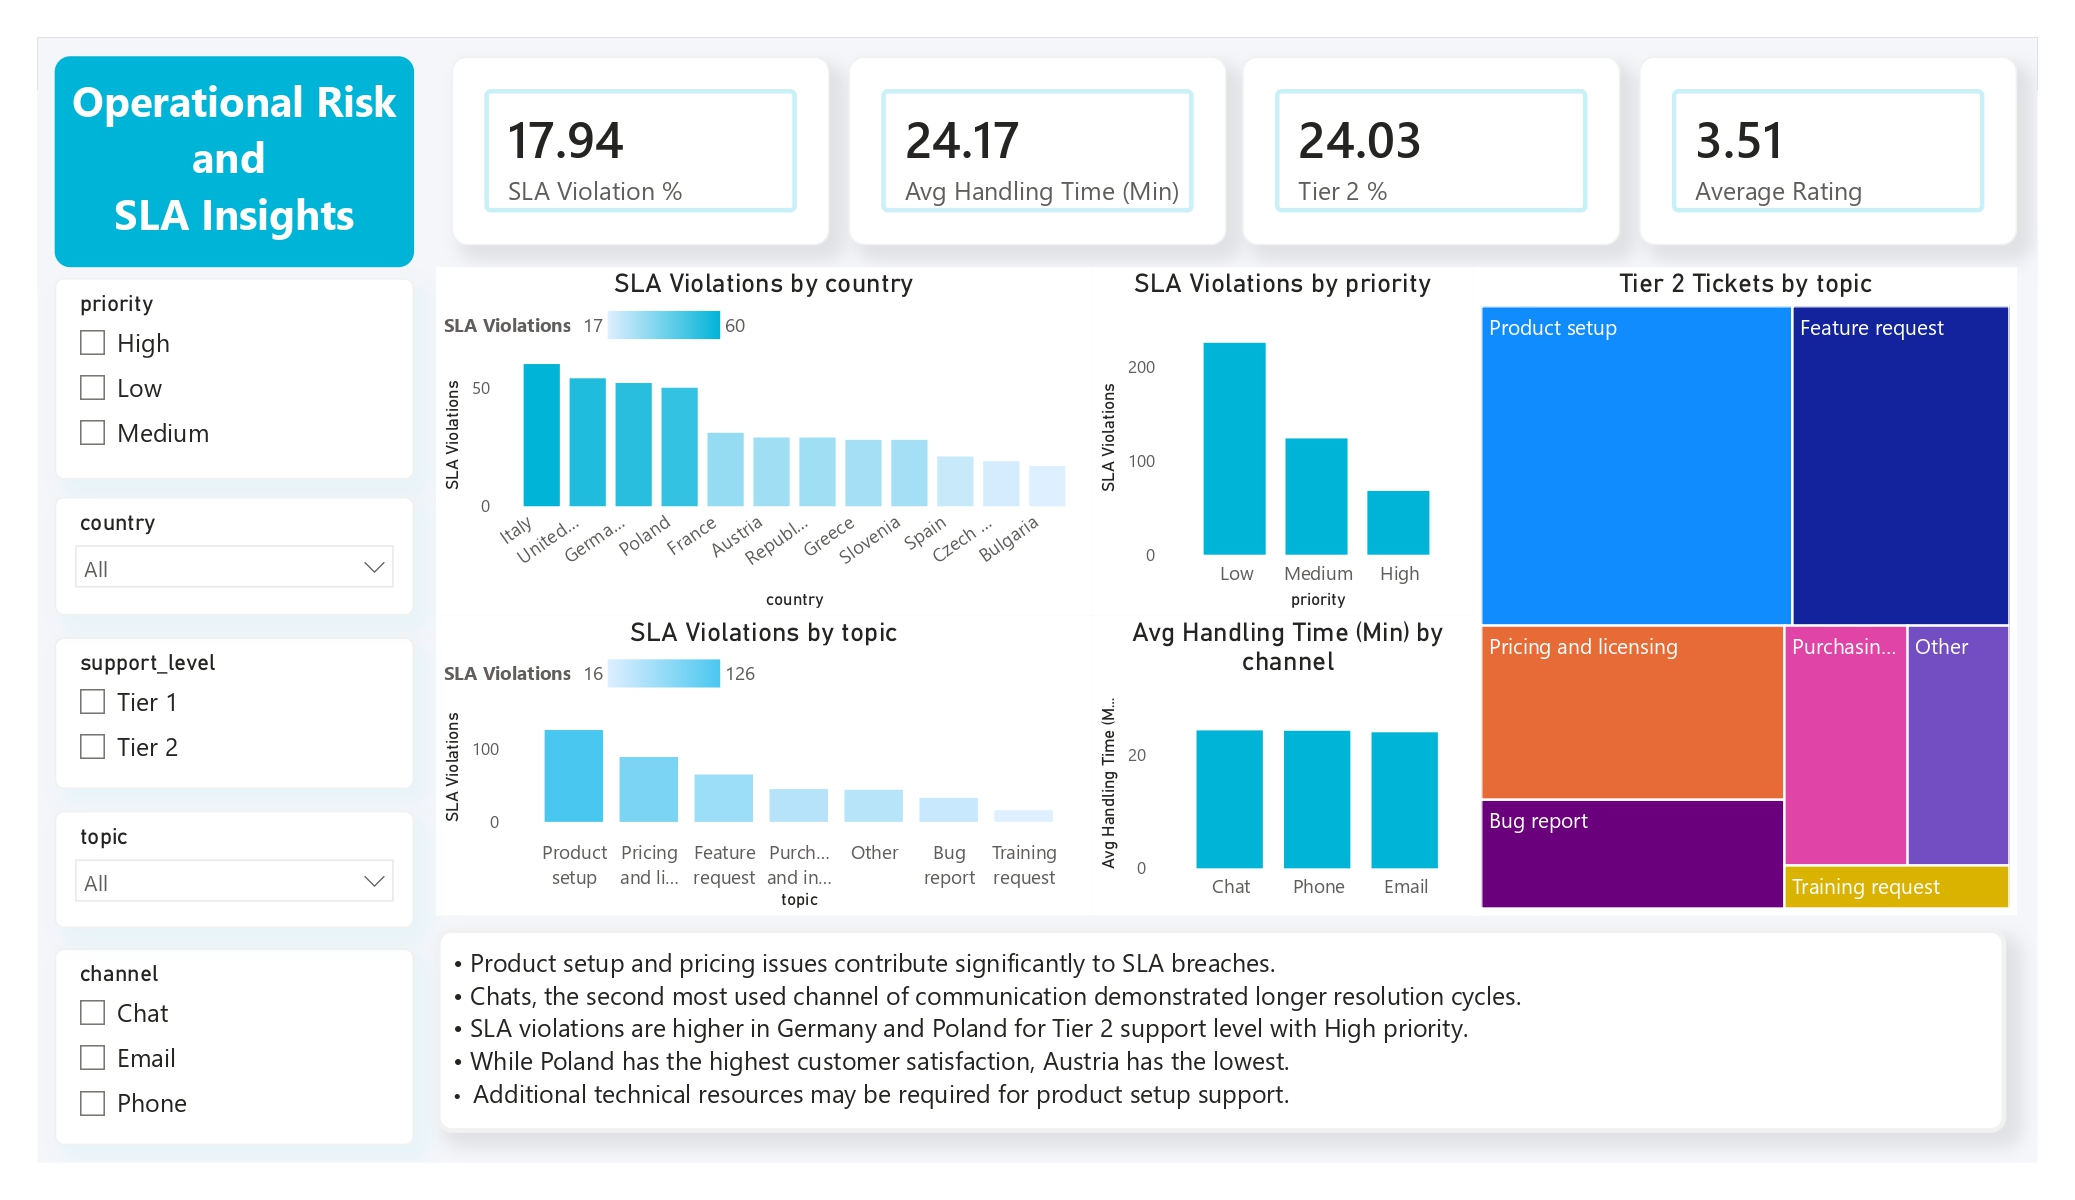

This screenshot's page, from the dashboard's own definition file:
{"tool":"powerbi","page":{"name":"SLA & Operations Analysis","canvas":[1280,720],"ordinal":2},"visuals":[{"type":"cardVisual","fields":{"Data":["Final cleaned Sheet.SLA Violation %"]},"box":[265.1,12,242.2,120.5],"z":0},{"type":"cardVisual","fields":{"Data":["Final cleaned Sheet.Avg Handling Time (Min)"]},"box":[519.3,12,242.2,121],"z":1000},{"type":"cardVisual","fields":{"Data":["Final cleaned Sheet.Tier 2 %"]},"box":[771.1,12,242.2,121],"z":2000},{"type":"cardVisual","fields":{"Data":["Final cleaned Sheet.Average Rating"]},"box":[1025.3,12,242.2,121],"z":3000},{"type":"clusteredColumnChart","fields":{"Category":["Final cleaned Sheet.topic"],"Y":["Final cleaned Sheet.SLA Violations"]},"box":[255.4,369.6,419.7,192.3],"z":4000},{"type":"clusteredColumnChart","fields":{"Category":["Final cleaned Sheet.priority"],"Y":["Final cleaned Sheet.SLA Violations"]},"box":[675.1,147.2,243.4,222.4],"z":5000},{"type":"clusteredColumnChart","fields":{"Category":["Final cleaned Sheet.channel"],"Y":["Final cleaned Sheet.Avg Handling Time (Min)"]},"box":[675.1,369.6,250.4,192.3],"z":6000},{"type":"treemap","fields":{"Group":["Final cleaned Sheet.topic"],"Values":["Final cleaned Sheet.Tier 2 Tickets"]},"box":[918.6,147.2,348.6,414.7],"z":7000},{"type":"slicer","fields":{"Values":["Final cleaned Sheet.priority"]},"box":[11,154.3,230.4,129.2],"z":8000},{"type":"slicer","fields":{"Values":["Final cleaned Sheet.support_level"]},"box":[11,383.7,230.4,97.2],"z":9000},{"type":"slicer","fields":{"Values":["Final cleaned Sheet.channel"]},"box":[11,583,230.4,126.2],"z":10000},{"type":"slicer","fields":{"Values":["Final cleaned Sheet.topic"]},"box":[11,494.8,230.4,75.1],"z":11000},{"type":"slicer","fields":{"Values":["Final cleaned Sheet.country"]},"box":[11,294.5,230.4,75.1],"z":12000},{"type":"columnChart","fields":{"Category":["Final cleaned Sheet.country"],"Y":["Final cleaned Sheet.SLA Violations"]},"box":[255.4,147.2,419.7,222.4],"z":13000},{"type":"textbox","box":[255.4,570,1004.7,131.2],"z":14000},{"type":"textbox","box":[11,12,230.4,135.2],"z":15000}]}

Visuals, with their boxes on the page's 1280x720 design canvas (x1, y1, x2, y2). These are canvas units, not pixel positions in the 2075x1200 screenshot, which may show the page scaled, cropped or inside an application window:
cardVisual - Final cleaned Sheet.SLA Violation %: bbox=[265, 12, 507, 132]
cardVisual - Final cleaned Sheet.Avg Handling Time (Min): bbox=[519, 12, 762, 133]
cardVisual - Final cleaned Sheet.Tier 2 %: bbox=[771, 12, 1013, 133]
cardVisual - Final cleaned Sheet.Average Rating: bbox=[1025, 12, 1268, 133]
clusteredColumnChart - Final cleaned Sheet.topic x Final cleaned Sheet.SLA Violations: bbox=[255, 370, 675, 562]
clusteredColumnChart - Final cleaned Sheet.priority x Final cleaned Sheet.SLA Violations: bbox=[675, 147, 918, 370]
clusteredColumnChart - Final cleaned Sheet.channel x Final cleaned Sheet.Avg Handling Time (Min): bbox=[675, 370, 926, 562]
treemap - Final cleaned Sheet.topic x Final cleaned Sheet.Tier 2 Tickets: bbox=[919, 147, 1267, 562]
slicer - Final cleaned Sheet.priority: bbox=[11, 154, 241, 284]
slicer - Final cleaned Sheet.support_level: bbox=[11, 384, 241, 481]
slicer - Final cleaned Sheet.channel: bbox=[11, 583, 241, 709]
slicer - Final cleaned Sheet.topic: bbox=[11, 495, 241, 570]
slicer - Final cleaned Sheet.country: bbox=[11, 294, 241, 370]
columnChart - Final cleaned Sheet.country x Final cleaned Sheet.SLA Violations: bbox=[255, 147, 675, 370]
textbox: bbox=[255, 570, 1260, 701]
textbox: bbox=[11, 12, 241, 147]
